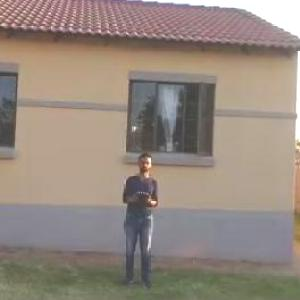follow: (114, 145, 160, 291)
